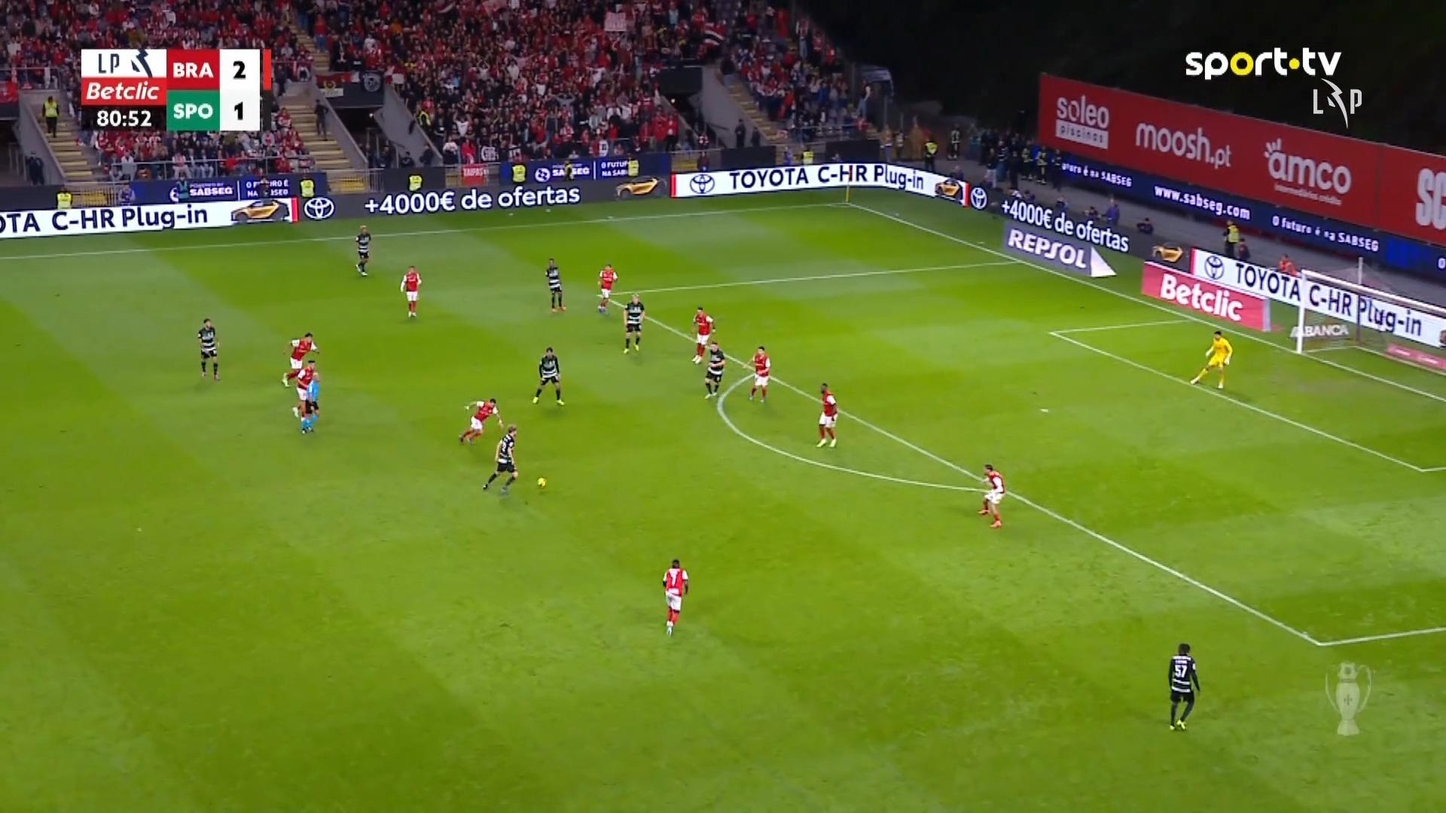ball: (536, 477, 545, 487)
goalkeeper: (1189, 329, 1232, 389)
player: (1167, 642, 1200, 730), (480, 424, 519, 495), (661, 558, 689, 636), (458, 397, 503, 445), (281, 331, 318, 386), (531, 346, 565, 405), (978, 463, 1005, 528), (815, 382, 838, 448), (197, 317, 221, 380), (621, 293, 645, 354), (746, 345, 771, 402), (291, 361, 316, 418), (691, 306, 715, 364), (702, 340, 725, 399), (398, 264, 422, 318), (544, 257, 566, 312), (596, 263, 618, 313), (354, 224, 371, 276)
referee: (301, 371, 321, 433)
